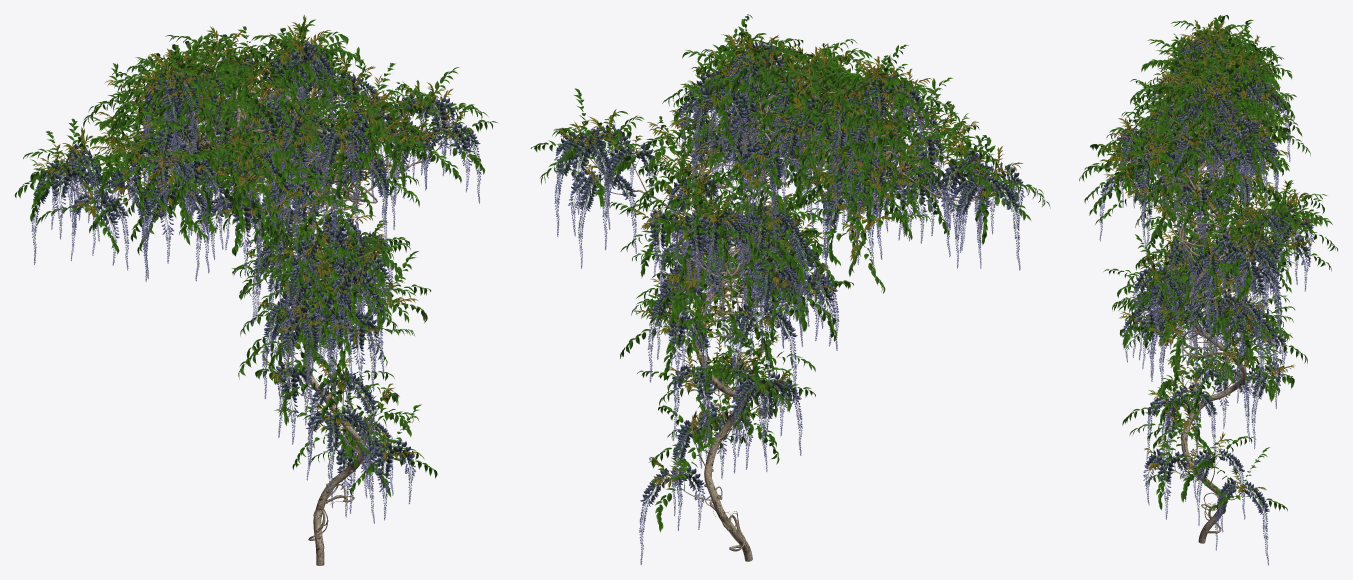
File: wisteria_sinensis005.glb
The picture shows the model from 3 angles, left to right: view 1: azimuth 30°, elevation 25°; view 2: azimuth 150°, elevation 25°; view 3: azimuth 270°, elevation 25°; orthographic projection. The views are drawn at different scales.
Visible parts, largest first — view 1: Wisteria sinensis005_Leaves_2_0, Wisteria sinensis005_Leaves_5_0, Wisteria sinensis005_Leaves_1_0, Wisteria sinensis005_Leaves_6_0, Wisteria sinensis005_Material #5_0, Wisteria sinensis005_Material #7_0, Wisteria sinensis005_trunk_0, Wisteria sinensis005_Leaves_3_0; view 2: Wisteria sinensis005_Leaves_2_0, Wisteria sinensis005_Leaves_5_0, Wisteria sinensis005_Leaves_1_0, Wisteria sinensis005_Leaves_6_0, Wisteria sinensis005_Material #5_0, Wisteria sinensis005_trunk_0, Wisteria sinensis005_Material #7_0, Wisteria sinensis005_Leaves_3_0; view 3: Wisteria sinensis005_Leaves_2_0, Wisteria sinensis005_Leaves_5_0, Wisteria sinensis005_Leaves_1_0, Wisteria sinensis005_Material #5_0, Wisteria sinensis005_Leaves_6_0, Wisteria sinensis005_trunk_0, Wisteria sinensis005_Material #7_0, Wisteria sinensis005_Leaves_3_0.
Boxes of the visible parts, x1=… form: Wisteria sinensis005_Leaves_2_0: x1=19, y1=16, x2=488, y2=496; Wisteria sinensis005_Leaves_5_0: x1=33, y1=39, x2=480, y2=476; Wisteria sinensis005_Leaves_1_0: x1=14, y1=24, x2=498, y2=491; Wisteria sinensis005_Leaves_6_0: x1=32, y1=68, x2=480, y2=523; Wisteria sinensis005_Material #5_0: x1=33, y1=15, x2=474, y2=460; Wisteria sinensis005_Material #7_0: x1=34, y1=27, x2=484, y2=521; Wisteria sinensis005_trunk_0: x1=62, y1=53, x2=446, y2=565; Wisteria sinensis005_Leaves_3_0: x1=31, y1=84, x2=481, y2=498; Wisteria sinensis005_Leaves_2_0: x1=530, y1=16, x2=1045, y2=532; Wisteria sinensis005_Leaves_5_0: x1=555, y1=41, x2=1022, y2=506; Wisteria sinensis005_Leaves_1_0: x1=535, y1=14, x2=1050, y2=524; Wisteria sinensis005_Leaves_6_0: x1=554, y1=64, x2=1025, y2=564; Wisteria sinensis005_Material #5_0: x1=553, y1=34, x2=1020, y2=487; Wisteria sinensis005_trunk_0: x1=584, y1=71, x2=981, y2=561; Wisteria sinensis005_Material #7_0: x1=534, y1=14, x2=1046, y2=559; Wisteria sinensis005_Leaves_3_0: x1=554, y1=83, x2=1022, y2=533; Wisteria sinensis005_Leaves_2_0: x1=1082, y1=15, x2=1337, y2=511; Wisteria sinensis005_Leaves_5_0: x1=1100, y1=34, x2=1313, y2=514; Wisteria sinensis005_Leaves_1_0: x1=1079, y1=15, x2=1335, y2=513; Wisteria sinensis005_Material #5_0: x1=1097, y1=20, x2=1319, y2=493; Wisteria sinensis005_Leaves_6_0: x1=1099, y1=51, x2=1314, y2=565; Wisteria sinensis005_trunk_0: x1=1125, y1=63, x2=1294, y2=543; Wisteria sinensis005_Material #7_0: x1=1087, y1=25, x2=1335, y2=560; Wisteria sinensis005_Leaves_3_0: x1=1099, y1=56, x2=1311, y2=539.
Size of the model in its own units: 3.5 by 3.73 by 1.88.
8 materials, 8 textured.
